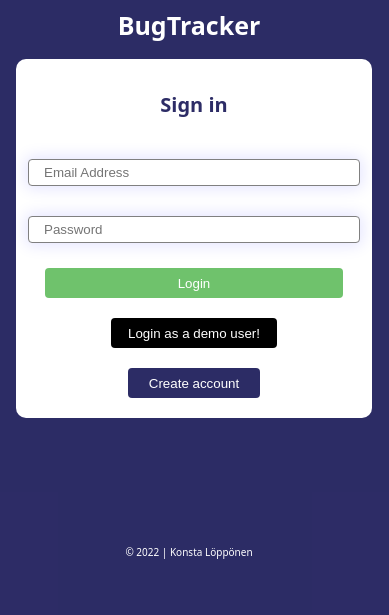
it: Landing page › Test a failed login attempt alert
What coordinates should you click on to do the following:
click the button with class "input-auth-submit"
I would click on:
 (195, 283)
Its box is [45,268,344,298].
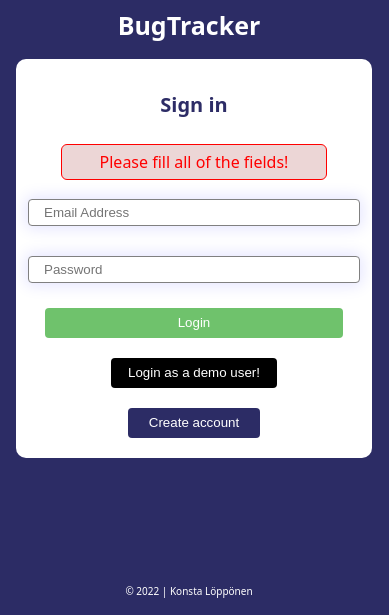
Result: the element with class "alert-container" is shown at [61,144,327,180]
Result: the text "Please fill all of the fields" is shown at [100,151,289,173]
